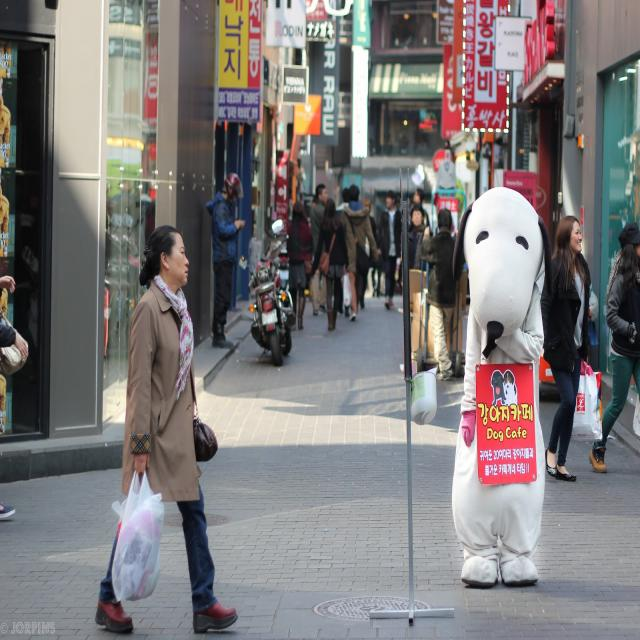body: (94, 223, 238, 635), (451, 186, 552, 590), (534, 213, 604, 482), (586, 220, 640, 478), (0, 229, 32, 521), (205, 170, 248, 350), (420, 208, 464, 382), (308, 197, 354, 331), (339, 184, 380, 319), (285, 198, 314, 332), (377, 188, 404, 310), (0, 181, 10, 436), (310, 184, 328, 316), (408, 202, 432, 272), (362, 197, 378, 300), (407, 187, 431, 232), (335, 187, 350, 217)
